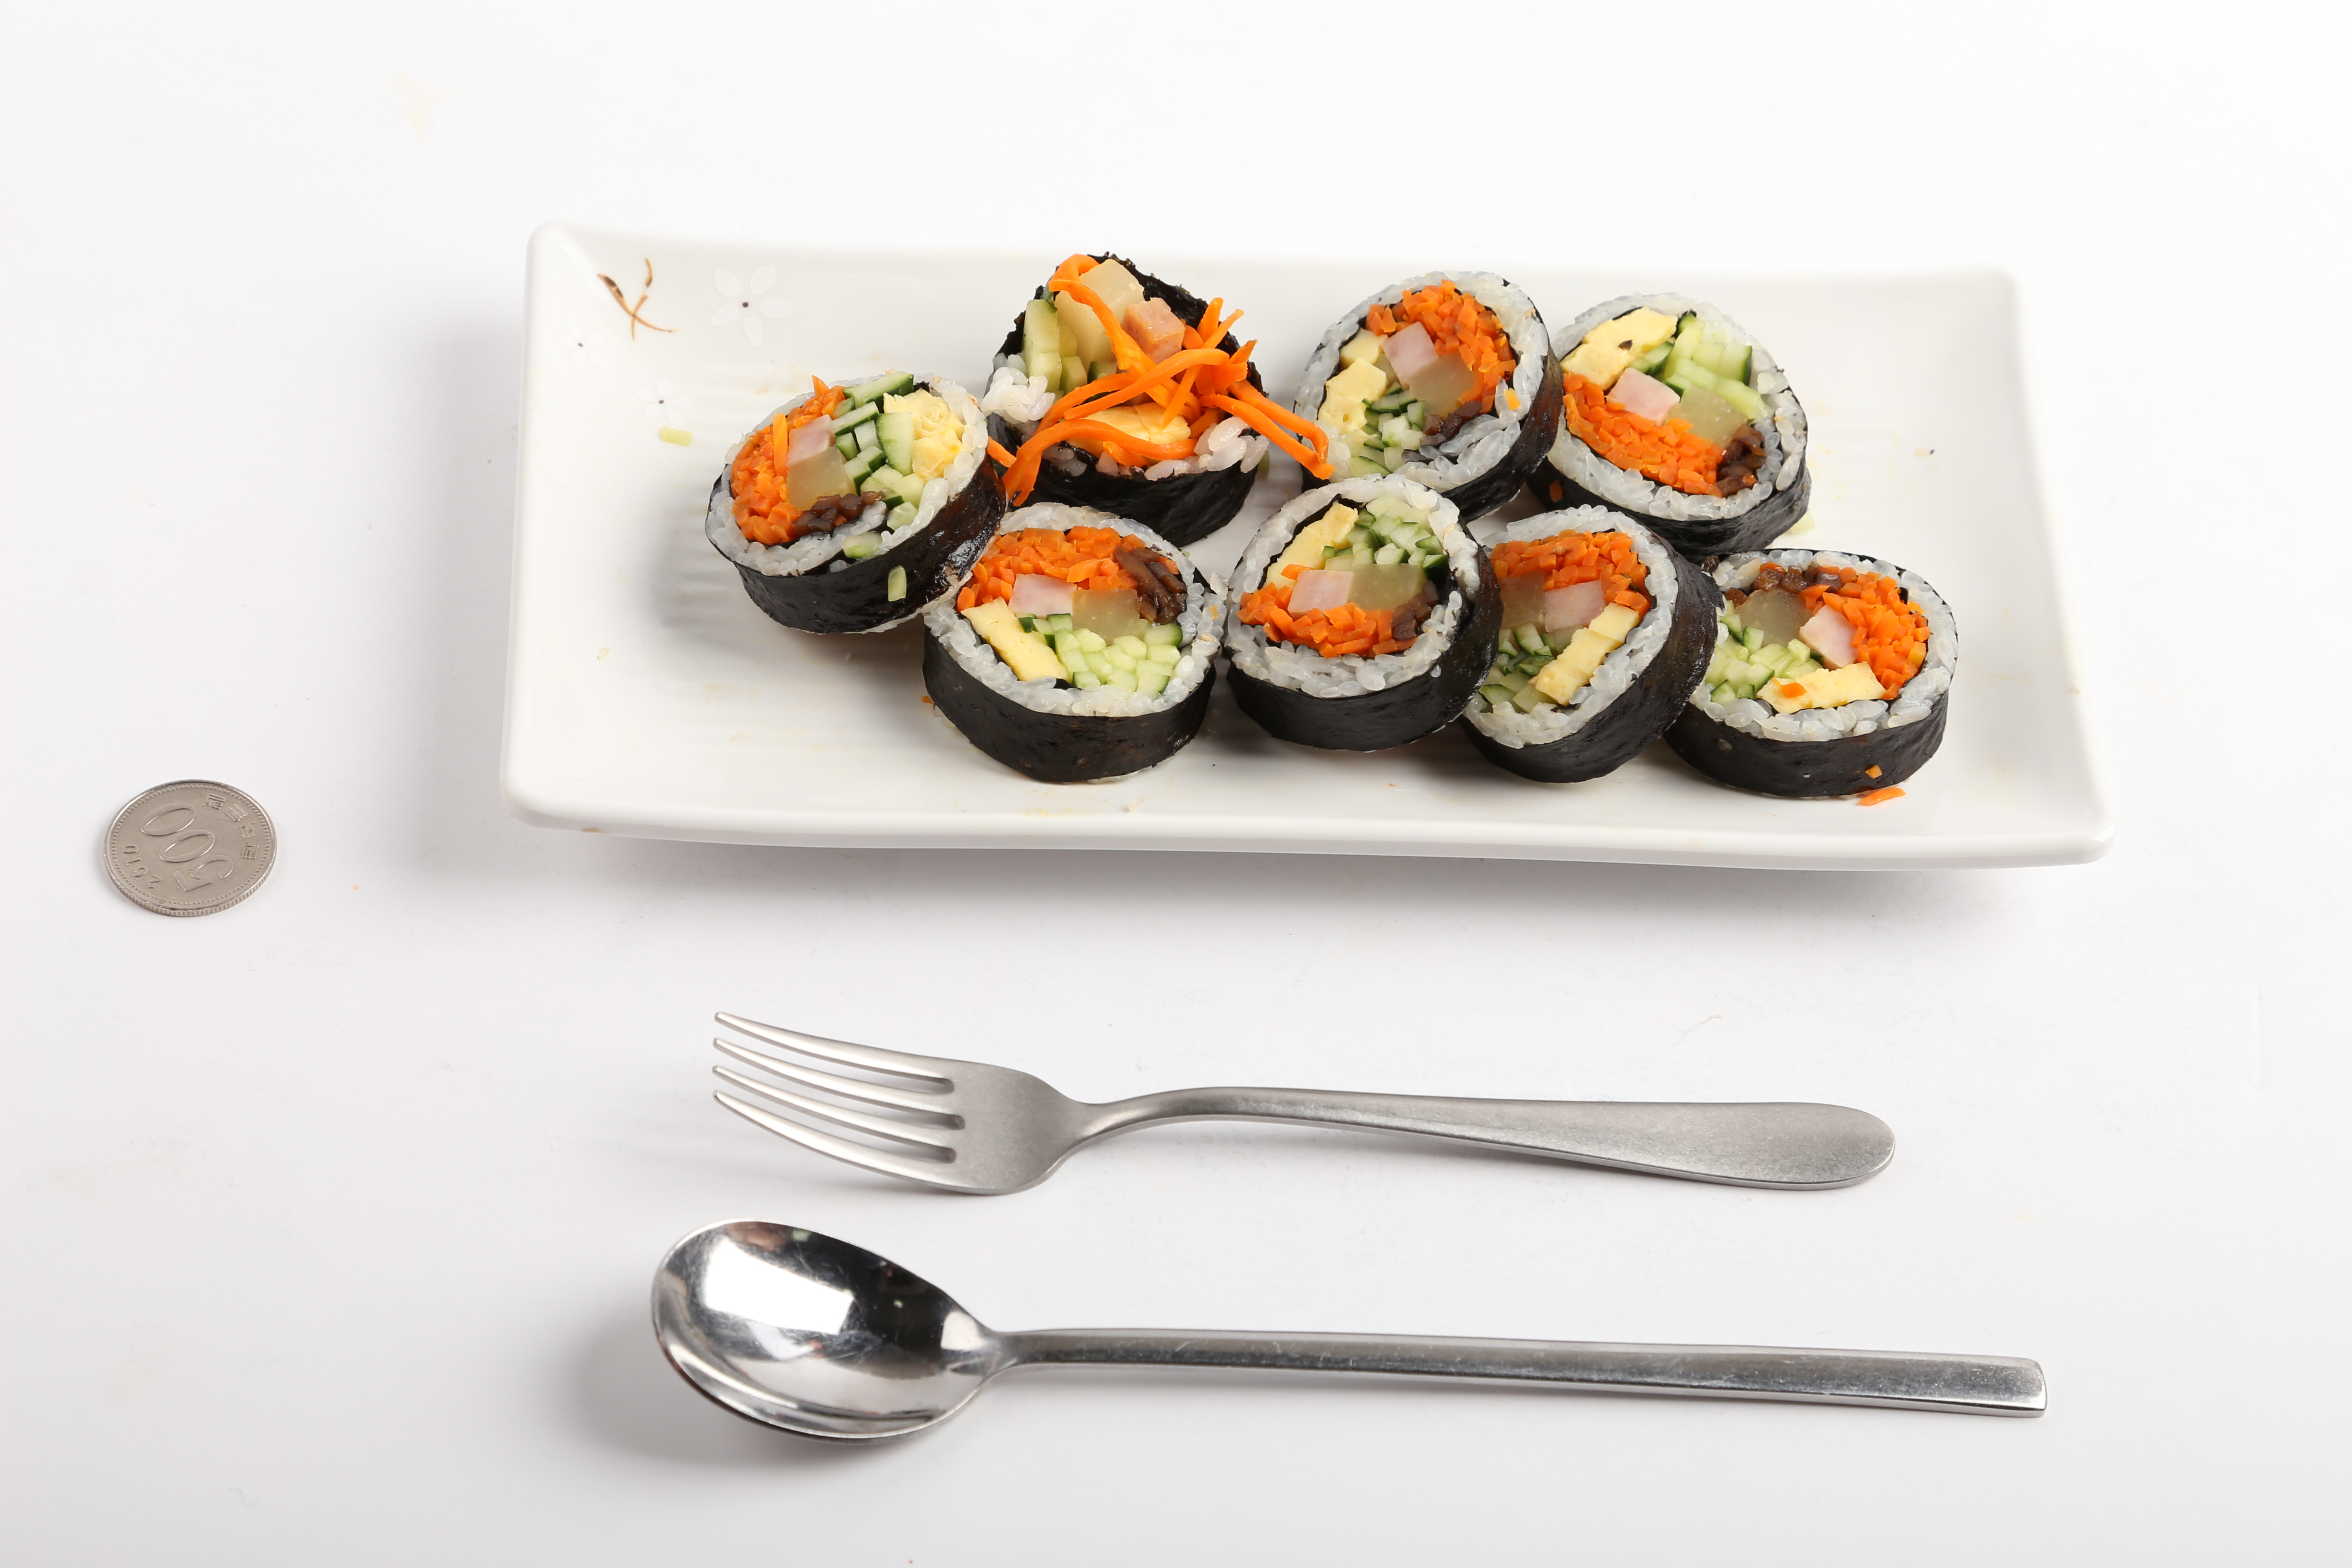dish: (499, 212, 2119, 885)
ref_coin: (98, 772, 280, 920)
ref_fork: (702, 1003, 1153, 1195)
ref_spoon: (635, 1214, 1076, 1445)
김밥: (693, 252, 1963, 805)
